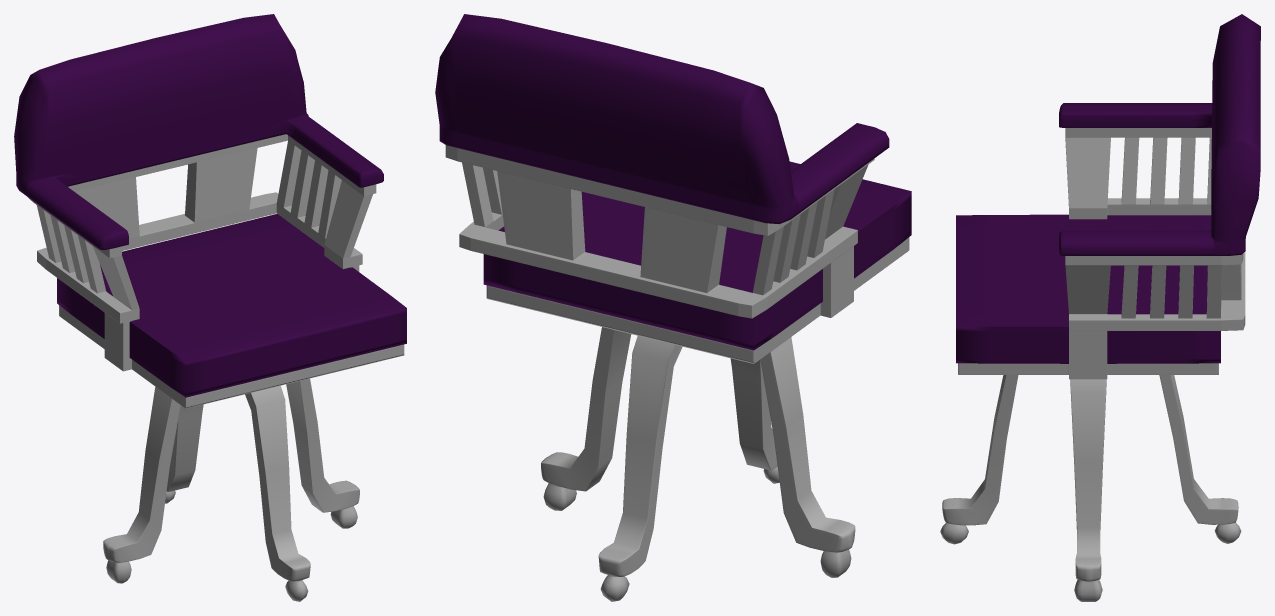
Rendered from officeChair.fbx.
3 views of the same model, side by side, from view 1: azimuth 30°, elevation 25°; view 2: azimuth 150°, elevation 25°; view 3: azimuth 270°, elevation 25° (orthographic). The views are drawn at different scales.
Parts seen in each view (by area): view 1: pCube6, pCube2; view 2: pCube6, pCube2; view 3: pCube6, pCube2.
Part boxes in pixels (x1,y1,x2,y2): pCube6: (14, 14, 406, 397); pCube2: (28, 134, 404, 601); pCube6: (435, 14, 911, 350); pCube2: (445, 145, 909, 601); pCube6: (956, 14, 1260, 363); pCube2: (940, 128, 1245, 601).
Bounding box in the file's own units: 5.07 × 7.89 × 4.83.
